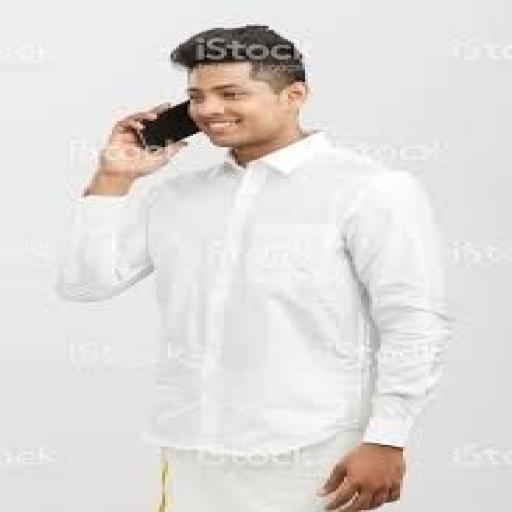texting: (53, 22, 453, 510)
